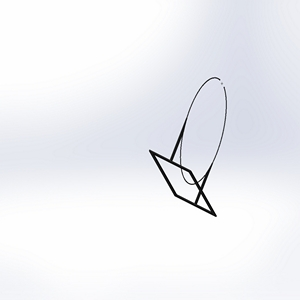circle: (147, 76, 229, 216)
